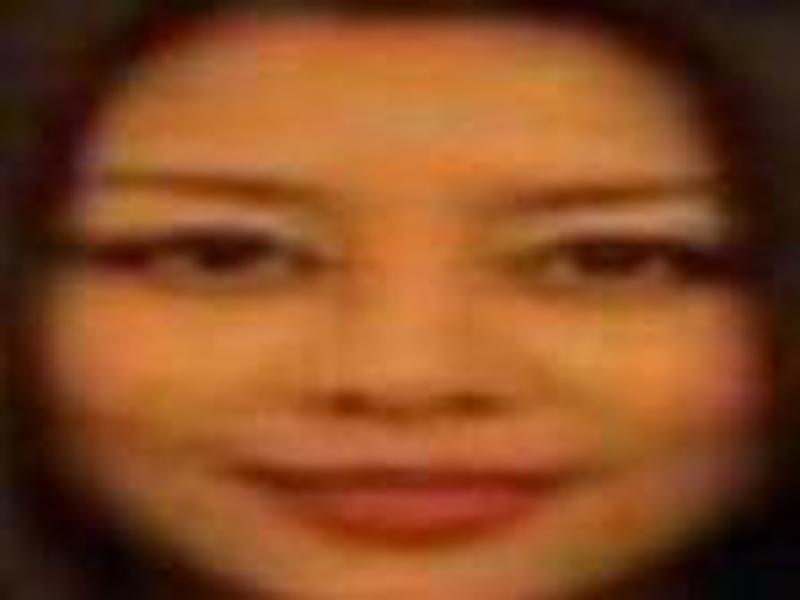without_mask: (46, 89, 763, 585)
